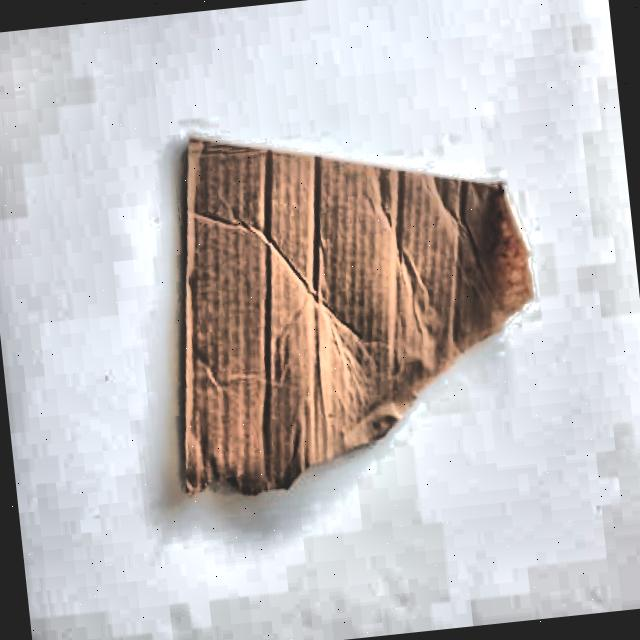cardboard: (142, 98, 556, 504)
